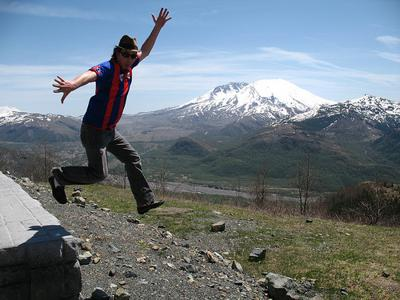person: (49, 6, 174, 216)
